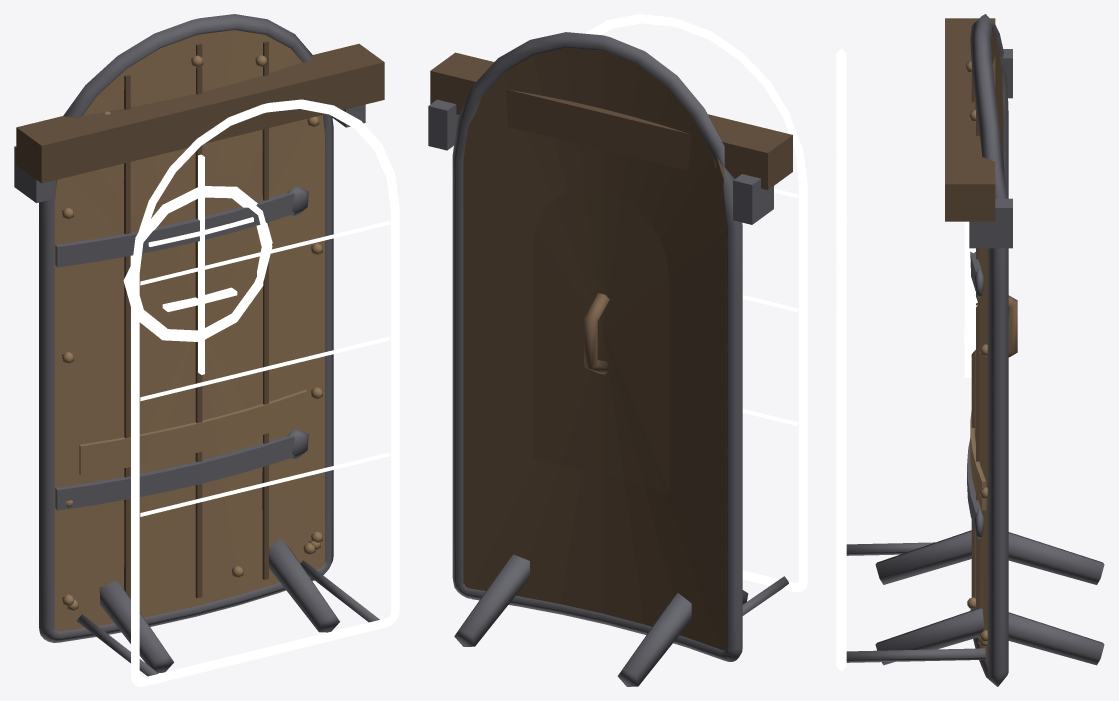
Rendered from shield-standing-ward.glb.
The picture shows the model from 3 angles, left to right: view 1: azimuth 30°, elevation 25°; view 2: azimuth 150°, elevation 25°; view 3: azimuth 270°, elevation 25°; orthographic projection.
Parts seen in each view (by area): view 1: shield-standing-ward; view 2: shield-standing-ward; view 3: shield-standing-ward.
Part boxes in pixels (x1,y1,x2,y2): shield-standing-ward: (14, 14, 399, 686); shield-standing-ward: (428, 14, 807, 686); shield-standing-ward: (836, 14, 1104, 686).
Size of the model in its own units: 1.12 by 1.86 by 0.7622.
